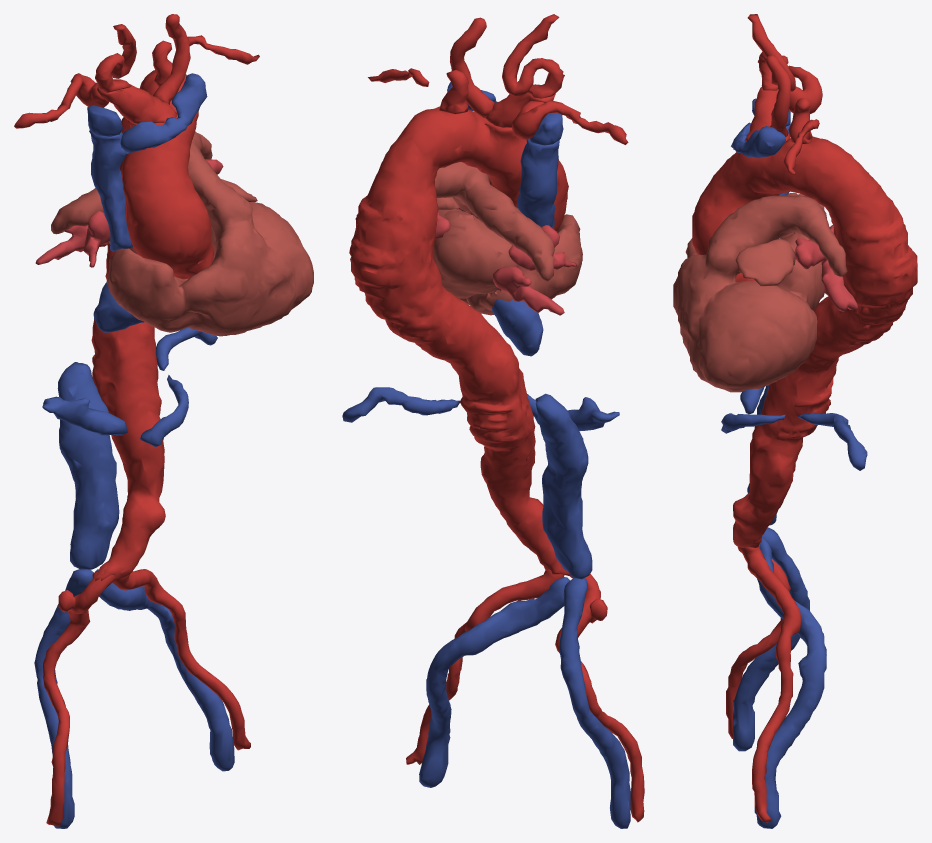
The model's file is tsd_s0196_older_adult_female.cardiovascular.LOD2.glb.
The picture shows the model from 3 angles, left to right: view 1: azimuth 30°, elevation 25°; view 2: azimuth 150°, elevation 25°; view 3: azimuth 270°, elevation 25°; orthographic projection. The views are drawn at different scales.
Parts seen in each view (by area): view 1: TSD_S0196.OLDER_ADULT.FEMALE.CARDIOVASCULAR.AORTA, TSD_S0196.OLDER_ADULT.FEMALE.CARDIOVASCULAR.HEART_ALL_CHAMBE, TSD_S0196.OLDER_ADULT.FEMALE.CARDIOVASCULAR.INFERIOR_VENA_CA, TSD_S0196.OLDER_ADULT.FEMALE.CARDIOVASCULAR.BRACHIOCEPHALIC_ (×3), TSD_S0196.OLDER_ADULT.FEMALE.CARDIOVASCULAR.ILIAC_ARTERY.R, TSD_S0196.OLDER_ADULT.FEMALE.CARDIOVASCULAR.PORTAL_VEIN_AND_, TSD_S0196.OLDER_ADULT.FEMALE.CARDIOVASCULAR.ILIAC_VEIN.L, TSD_S0196.OLDER_ADULT.FEMALE.CARDIOVASCULAR.ILIAC_ARTERY.L, TSD_S0196.OLDER_ADULT.FEMALE.CARDIOVASCULAR.COMMON_CAROTID_A (×2), TSD_S0196.OLDER_ADULT.FEMALE.CARDIOVASCULAR.SUPERIOR_VENA_CA, TSD_S0196.OLDER_ADULT.FEMALE.CARDIOVASCULAR.SUBCLAVIAN_ARTER (×2), TSD_S0196.OLDER_ADULT.FEMALE.CARDIOVASCULAR.ILIAC_VEIN.R (+1 smaller); view 2: TSD_S0196.OLDER_ADULT.FEMALE.CARDIOVASCULAR.AORTA, TSD_S0196.OLDER_ADULT.FEMALE.CARDIOVASCULAR.HEART_ALL_CHAMBE, TSD_S0196.OLDER_ADULT.FEMALE.CARDIOVASCULAR.INFERIOR_VENA_CA, TSD_S0196.OLDER_ADULT.FEMALE.CARDIOVASCULAR.ILIAC_VEIN.L, TSD_S0196.OLDER_ADULT.FEMALE.CARDIOVASCULAR.ILIAC_VEIN.R, TSD_S0196.OLDER_ADULT.FEMALE.CARDIOVASCULAR.COMMON_CAROTID_A (×2), TSD_S0196.OLDER_ADULT.FEMALE.CARDIOVASCULAR.SUBCLAVIAN_ARTER (×2), TSD_S0196.OLDER_ADULT.FEMALE.CARDIOVASCULAR.ILIAC_ARTERY.R, TSD_S0196.OLDER_ADULT.FEMALE.CARDIOVASCULAR.SUPERIOR_VENA_CA, TSD_S0196.OLDER_ADULT.FEMALE.CARDIOVASCULAR.PORTAL_VEIN_AND_, TSD_S0196.OLDER_ADULT.FEMALE.CARDIOVASCULAR.ILIAC_ARTERY.L, TSD_S0196.OLDER_ADULT.FEMALE.CARDIOVASCULAR.PULMONARY_VEINS_ (+1 smaller); view 3: TSD_S0196.OLDER_ADULT.FEMALE.CARDIOVASCULAR.AORTA, TSD_S0196.OLDER_ADULT.FEMALE.CARDIOVASCULAR.HEART_ALL_CHAMBE, TSD_S0196.OLDER_ADULT.FEMALE.CARDIOVASCULAR.ILIAC_VEIN.L, TSD_S0196.OLDER_ADULT.FEMALE.CARDIOVASCULAR.ILIAC_ARTERY.L, TSD_S0196.OLDER_ADULT.FEMALE.CARDIOVASCULAR.ILIAC_VEIN.R, TSD_S0196.OLDER_ADULT.FEMALE.CARDIOVASCULAR.PORTAL_VEIN_AND_, TSD_S0196.OLDER_ADULT.FEMALE.CARDIOVASCULAR.COMMON_CAROTID_A (×2), TSD_S0196.OLDER_ADULT.FEMALE.CARDIOVASCULAR.SUBCLAVIAN_ARTER (×2), TSD_S0196.OLDER_ADULT.FEMALE.CARDIOVASCULAR.BRACHIOCEPHALIC_ (×2), TSD_S0196.OLDER_ADULT.FEMALE.CARDIOVASCULAR.LEFT_ATRIAL_APPE, TSD_S0196.OLDER_ADULT.FEMALE.CARDIOVASCULAR.PULMONARY_VEINS_, TSD_S0196.OLDER_ADULT.FEMALE.CARDIOVASCULAR.ILIAC_ARTERY.R.
Boxes of the visible parts, <box> form: TSD_S0196.OLDER_ADULT.FEMALE.CARDIOVASCULAR.AORTA: <box>91,70,214,580</box>; TSD_S0196.OLDER_ADULT.FEMALE.CARDIOVASCULAR.HEART_ALL_CHAMBE: <box>51,131,313,336</box>; TSD_S0196.OLDER_ADULT.FEMALE.CARDIOVASCULAR.INFERIOR_VENA_CA: <box>57,282,144,569</box>; TSD_S0196.OLDER_ADULT.FEMALE.CARDIOVASCULAR.BRACHIOCEPHALIC_ (×3): <box>87,73,207,153</box>; TSD_S0196.OLDER_ADULT.FEMALE.CARDIOVASCULAR.ILIAC_ARTERY.R: <box>42,564,115,826</box>; TSD_S0196.OLDER_ADULT.FEMALE.CARDIOVASCULAR.PORTAL_VEIN_AND_: <box>42,327,217,447</box>; TSD_S0196.OLDER_ADULT.FEMALE.CARDIOVASCULAR.ILIAC_VEIN.L: <box>95,569,234,771</box>; TSD_S0196.OLDER_ADULT.FEMALE.CARDIOVASCULAR.ILIAC_ARTERY.L: <box>112,569,250,750</box>; TSD_S0196.OLDER_ADULT.FEMALE.CARDIOVASCULAR.COMMON_CAROTID_A (×2): <box>95,14,190,104</box>; TSD_S0196.OLDER_ADULT.FEMALE.CARDIOVASCULAR.SUPERIOR_VENA_CA: <box>89,130,132,251</box>; TSD_S0196.OLDER_ADULT.FEMALE.CARDIOVASCULAR.SUBCLAVIAN_ARTER (×2): <box>14,35,259,128</box>; TSD_S0196.OLDER_ADULT.FEMALE.CARDIOVASCULAR.ILIAC_VEIN.R: <box>34,569,93,828</box>; TSD_S0196.OLDER_ADULT.FEMALE.CARDIOVASCULAR.AORTA: <box>349,106,571,576</box>; TSD_S0196.OLDER_ADULT.FEMALE.CARDIOVASCULAR.HEART_ALL_CHAMBE: <box>433,162,582,315</box>; TSD_S0196.OLDER_ADULT.FEMALE.CARDIOVASCULAR.INFERIOR_VENA_CA: <box>491,299,592,579</box>; TSD_S0196.OLDER_ADULT.FEMALE.CARDIOVASCULAR.ILIAC_VEIN.L: <box>419,577,569,787</box>; TSD_S0196.OLDER_ADULT.FEMALE.CARDIOVASCULAR.ILIAC_VEIN.R: <box>559,578,630,828</box>; TSD_S0196.OLDER_ADULT.FEMALE.CARDIOVASCULAR.COMMON_CAROTID_A (×2): <box>450,14,564,117</box>; TSD_S0196.OLDER_ADULT.FEMALE.CARDIOVASCULAR.SUBCLAVIAN_ARTER (×2): <box>368,68,628,144</box>; TSD_S0196.OLDER_ADULT.FEMALE.CARDIOVASCULAR.ILIAC_ARTERY.R: <box>555,574,644,822</box>; TSD_S0196.OLDER_ADULT.FEMALE.CARDIOVASCULAR.SUPERIOR_VENA_CA: <box>516,139,559,228</box>; TSD_S0196.OLDER_ADULT.FEMALE.CARDIOVASCULAR.PORTAL_VEIN_AND_: <box>342,387,619,431</box>; TSD_S0196.OLDER_ADULT.FEMALE.CARDIOVASCULAR.ILIAC_ARTERY.L: <box>406,569,564,764</box>; TSD_S0196.OLDER_ADULT.FEMALE.CARDIOVASCULAR.PULMONARY_VEINS_: <box>435,212,576,315</box>; TSD_S0196.OLDER_ADULT.FEMALE.CARDIOVASCULAR.AORTA: <box>692,134,917,547</box>; TSD_S0196.OLDER_ADULT.FEMALE.CARDIOVASCULAR.HEART_ALL_CHAMBE: <box>673,193,847,392</box>; TSD_S0196.OLDER_ADULT.FEMALE.CARDIOVASCULAR.ILIAC_VEIN.L: <box>754,538,826,828</box>; TSD_S0196.OLDER_ADULT.FEMALE.CARDIOVASCULAR.ILIAC_ARTERY.L: <box>738,544,801,822</box>; TSD_S0196.OLDER_ADULT.FEMALE.CARDIOVASCULAR.ILIAC_VEIN.R: <box>733,527,809,751</box>; TSD_S0196.OLDER_ADULT.FEMALE.CARDIOVASCULAR.PORTAL_VEIN_AND_: <box>721,386,867,470</box>; TSD_S0196.OLDER_ADULT.FEMALE.CARDIOVASCULAR.COMMON_CAROTID_A (×2): <box>747,14,795,136</box>; TSD_S0196.OLDER_ADULT.FEMALE.CARDIOVASCULAR.SUBCLAVIAN_ARTER (×2): <box>782,55,822,175</box>; TSD_S0196.OLDER_ADULT.FEMALE.CARDIOVASCULAR.BRACHIOCEPHALIC_ (×2): <box>731,87,788,158</box>; TSD_S0196.OLDER_ADULT.FEMALE.CARDIOVASCULAR.LEFT_ATRIAL_APPE: <box>735,239,795,286</box>; TSD_S0196.OLDER_ADULT.FEMALE.CARDIOVASCULAR.PULMONARY_VEINS_: <box>781,225,858,311</box>; TSD_S0196.OLDER_ADULT.FEMALE.CARDIOVASCULAR.ILIAC_ARTERY.R: <box>726,547,790,738</box>.
Bounding box in the file's own units: 0.1903 × 0.528 × 0.1532.
